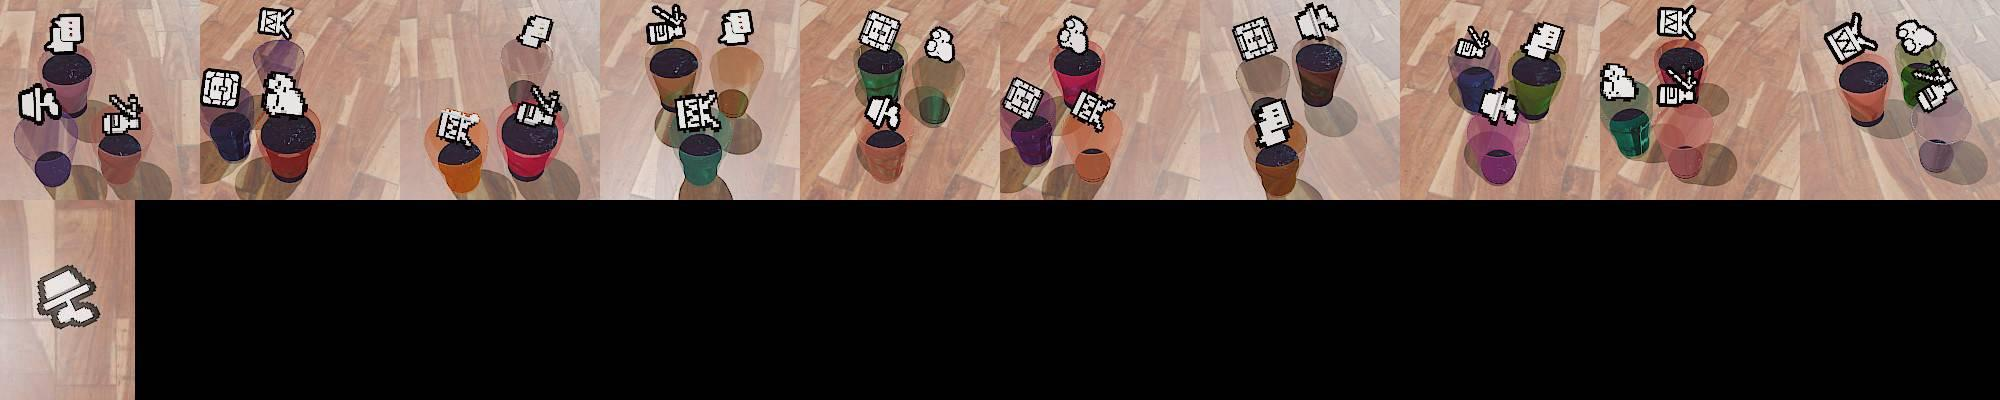icon: (35, 264, 102, 331), (1823, 10, 1880, 64), (261, 69, 311, 118), (1914, 60, 1958, 114), (1250, 95, 1293, 148), (1069, 87, 1117, 133), (1231, 16, 1277, 63), (857, 9, 901, 54), (100, 92, 144, 137), (675, 89, 721, 132), (1002, 75, 1045, 121), (1520, 20, 1566, 63), (1295, 1, 1340, 43), (1655, 66, 1700, 108), (647, 2, 689, 46), (18, 83, 62, 124), (516, 87, 562, 126), (200, 68, 242, 109), (436, 107, 480, 145), (1599, 61, 1639, 102), (47, 12, 85, 55), (1479, 87, 1519, 126), (1895, 19, 1937, 56), (1656, 4, 1698, 40), (1454, 26, 1491, 65), (718, 8, 754, 47), (865, 93, 902, 130), (923, 23, 956, 64), (1057, 14, 1090, 55), (517, 14, 554, 50), (257, 6, 295, 39)
